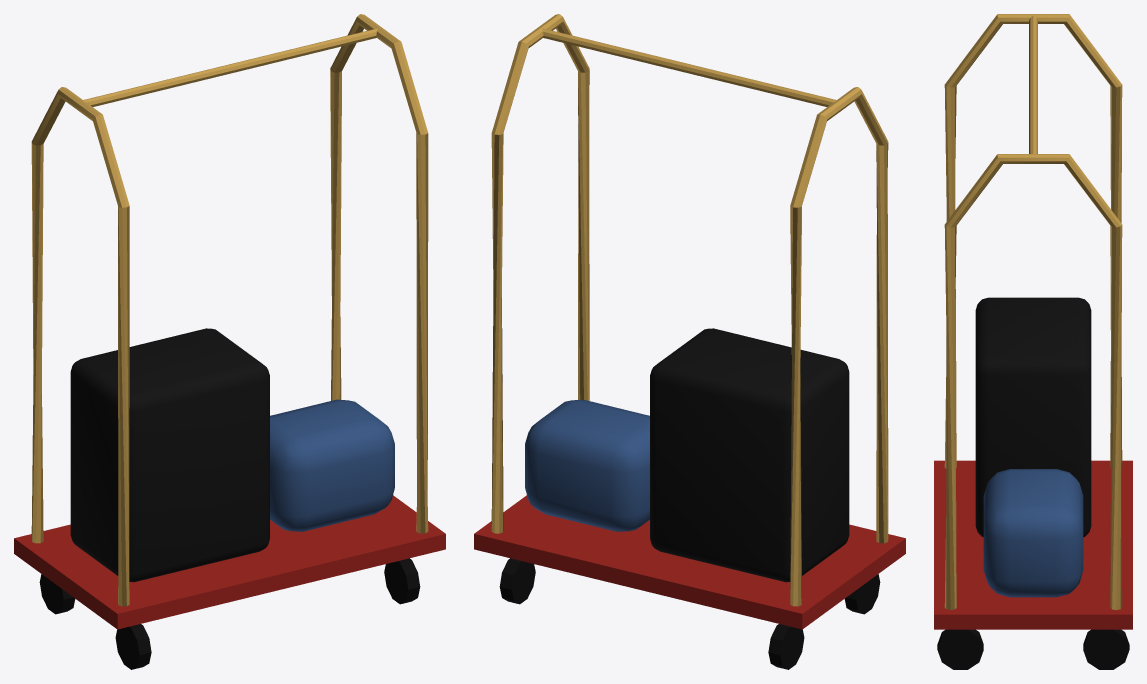
File: hospitality.hotel.luggage_cart.glb
3 renders of one model, left to right at view 1: azimuth 30°, elevation 25°; view 2: azimuth 150°, elevation 25°; view 3: azimuth 270°, elevation 25°, orthographic. The views are drawn at different scales.
Visible parts, largest first — view 1: main__leather_black, main__brass, main__fabric_red, main__fabric_blue, main__rubber; view 2: main__leather_black, main__brass, main__fabric_red, main__fabric_blue, main__rubber; view 3: main__leather_black, main__brass, main__fabric_red, main__fabric_blue, main__rubber.
Boxes of the visible parts, x1,y1,x2,y2 form: main__leather_black: (70, 328, 269, 582); main__brass: (31, 14, 428, 606); main__fabric_red: (14, 495, 445, 629); main__fabric_blue: (270, 399, 394, 531); main__rubber: (39, 558, 420, 669); main__leather_black: (650, 328, 849, 582); main__brass: (491, 14, 888, 606); main__fabric_red: (474, 495, 905, 629); main__fabric_blue: (525, 399, 649, 531); main__rubber: (499, 558, 880, 669); main__leather_black: (975, 297, 1091, 537); main__brass: (944, 14, 1122, 610); main__fabric_red: (934, 460, 1132, 629); main__fabric_blue: (983, 469, 1083, 597); main__rubber: (937, 629, 1129, 669).
Bounding box in the file's own units: 1.1 × 1.73 × 0.6.
